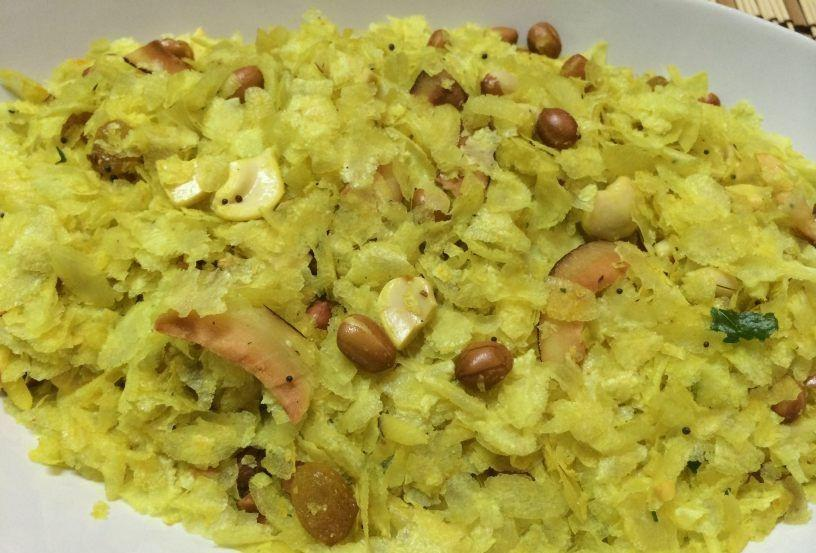Poha: (3, 9, 816, 553)
